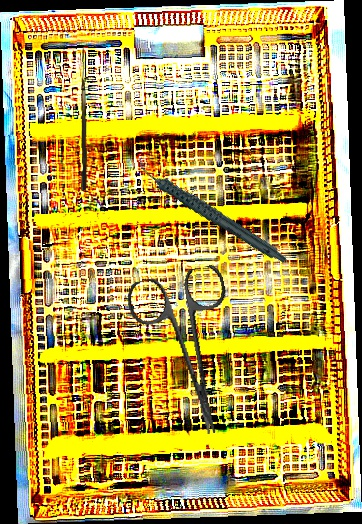Handpiece: (133, 132, 289, 291)
Hook Surgical: (76, 47, 89, 191)
Iris Scissors: (123, 263, 257, 445)
